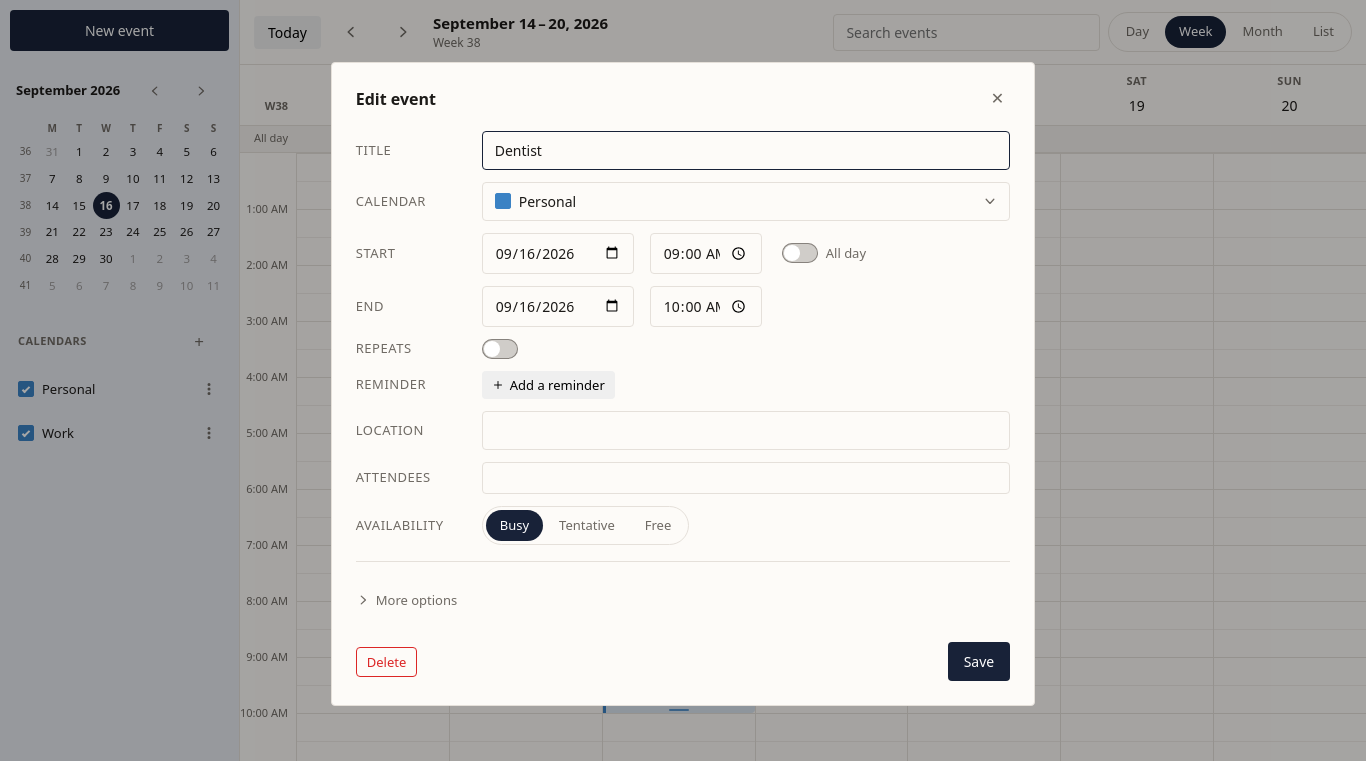
Test: CalendarLayout — sowing and saving the editor › says how many invitations went out with the save
The image size is (1366, 761).
Click the button "Save" at (979, 662), box 948,642 -> 1010,681
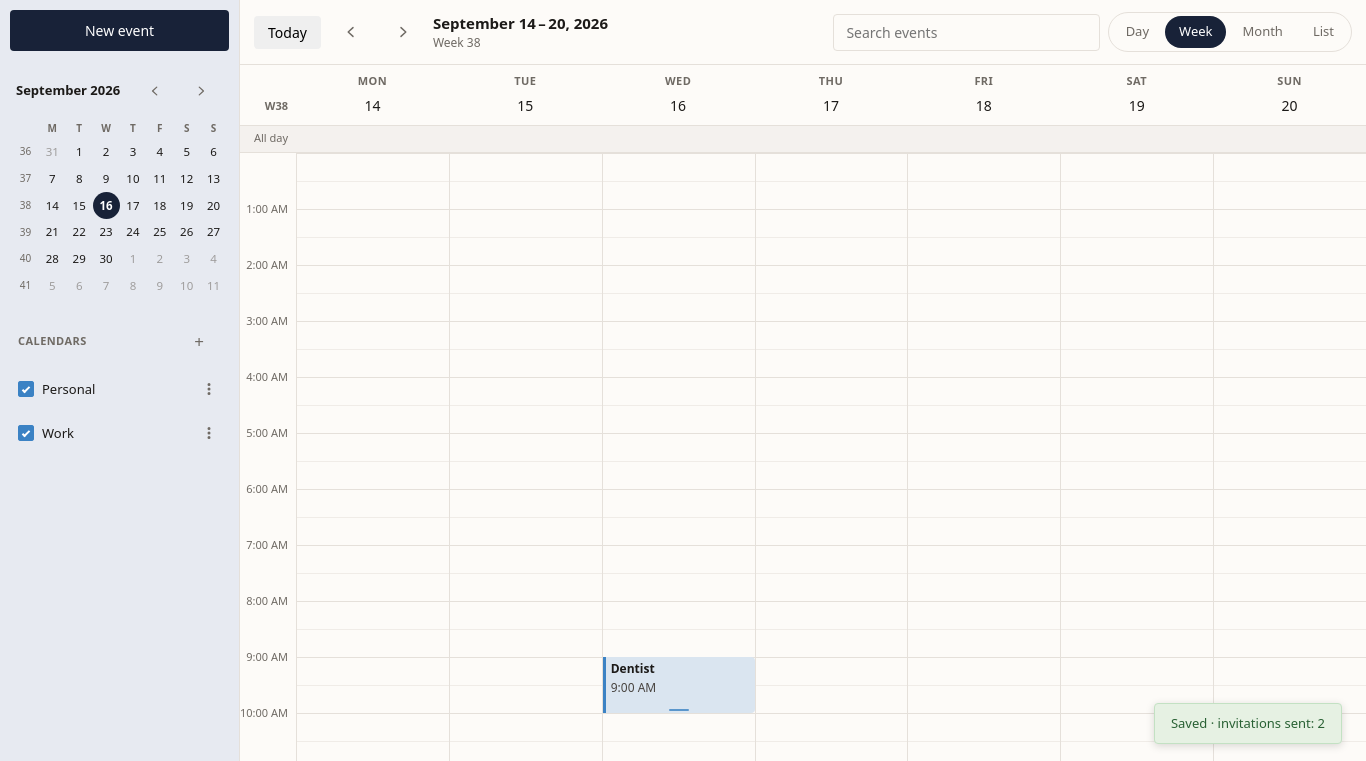
Expected: the text "Saved · invitations sent: 2" is shown, 1171,714 -> 1325,733
